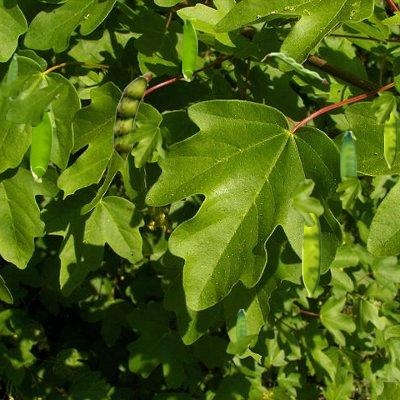pea: (113, 72, 152, 166), (261, 52, 327, 82), (302, 214, 320, 296), (30, 113, 51, 181), (182, 18, 196, 80), (340, 131, 355, 180), (384, 113, 396, 167), (6, 53, 16, 99), (236, 309, 245, 337)
